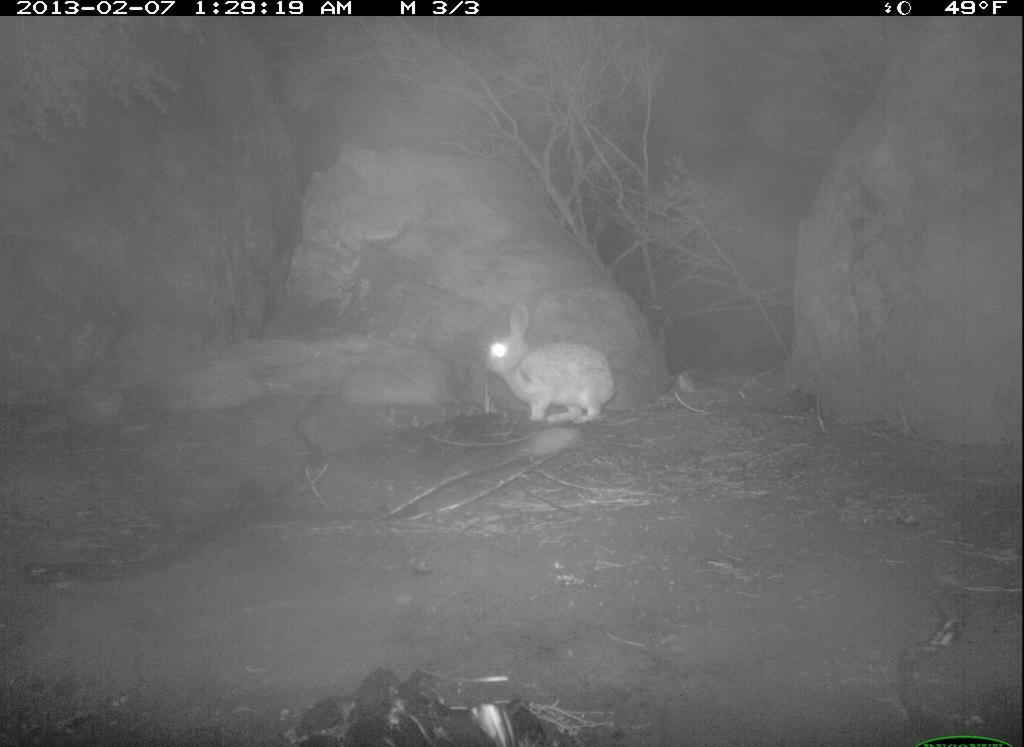rabbit: (465, 297, 630, 440)
